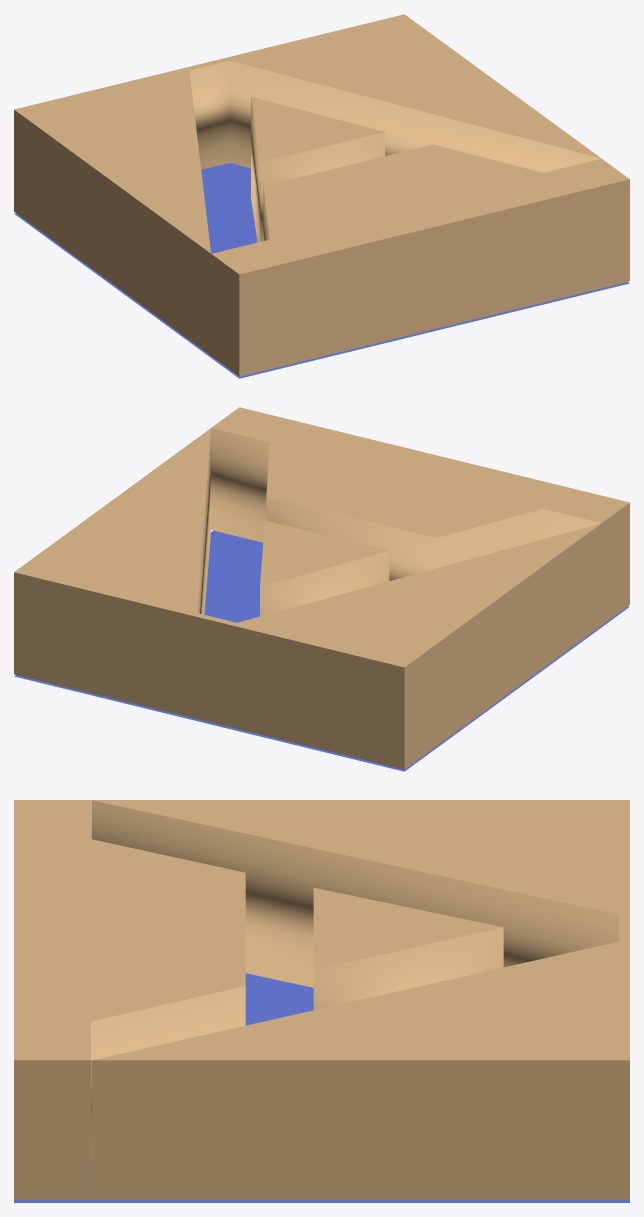
File: A_mold.gltf
3 views of the same model, one above another, from view 1: azimuth 30°, elevation 25°; view 2: azimuth 150°, elevation 25°; view 3: azimuth 270°, elevation 25° (orthographic). The views are drawn at different scales.
Parts seen in each view (by area): view 1: Cube, Base; view 2: Cube, Base; view 3: Cube, Base.
Boxes of the visible parts, box(x1,y1,x2,y2) form: Cube: box(14, 14, 629, 376); Base: box(14, 163, 629, 378); Cube: box(14, 407, 629, 769); Base: box(14, 530, 629, 771); Cube: box(14, 800, 629, 1199); Base: box(14, 973, 629, 1202).
Size of the model in its own units: 0.2 by 0.051 by 0.2.
